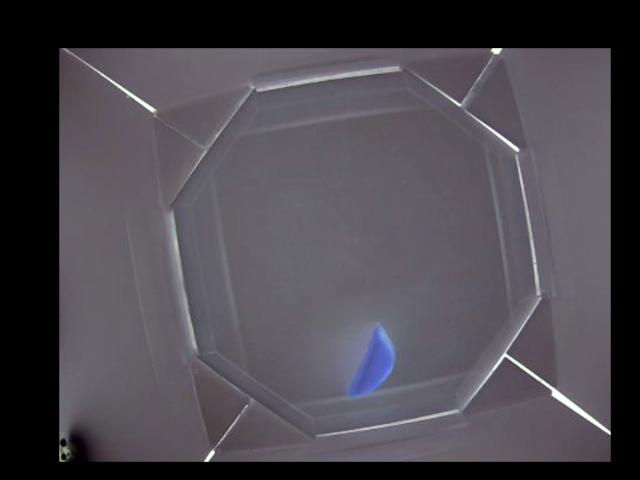Potato: (347, 324, 397, 398)
